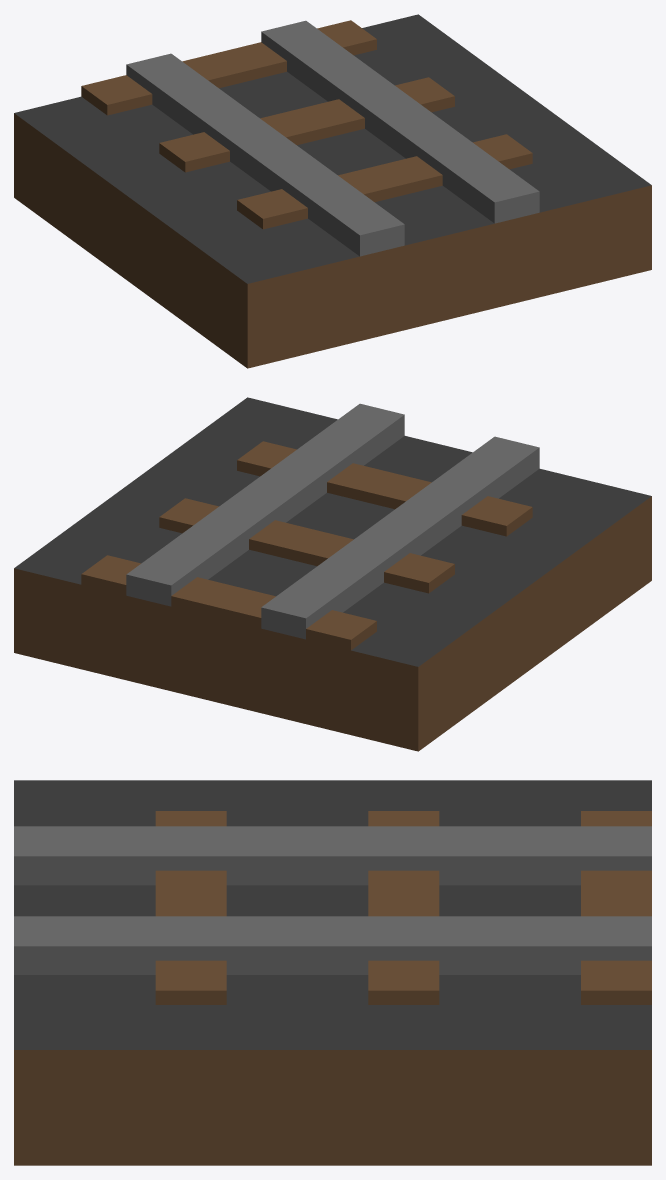
File: rail_main.fbx
3 views of the same model, one above another, from view 1: azimuth 30°, elevation 25°; view 2: azimuth 150°, elevation 25°; view 3: azimuth 270°, elevation 25° (orthographic). The views are drawn at different scales.
Visible parts, largest first — view 1: Cube.001; view 2: Cube.001; view 3: Cube.001.
Boxes of the visible parts, box(x1,y1,x2,y2) form: Cube.001: box(14, 14, 651, 368); Cube.001: box(14, 397, 651, 751); Cube.001: box(14, 780, 651, 1165).
Size of the model in its own units: 1000 by 250 by 1000.
